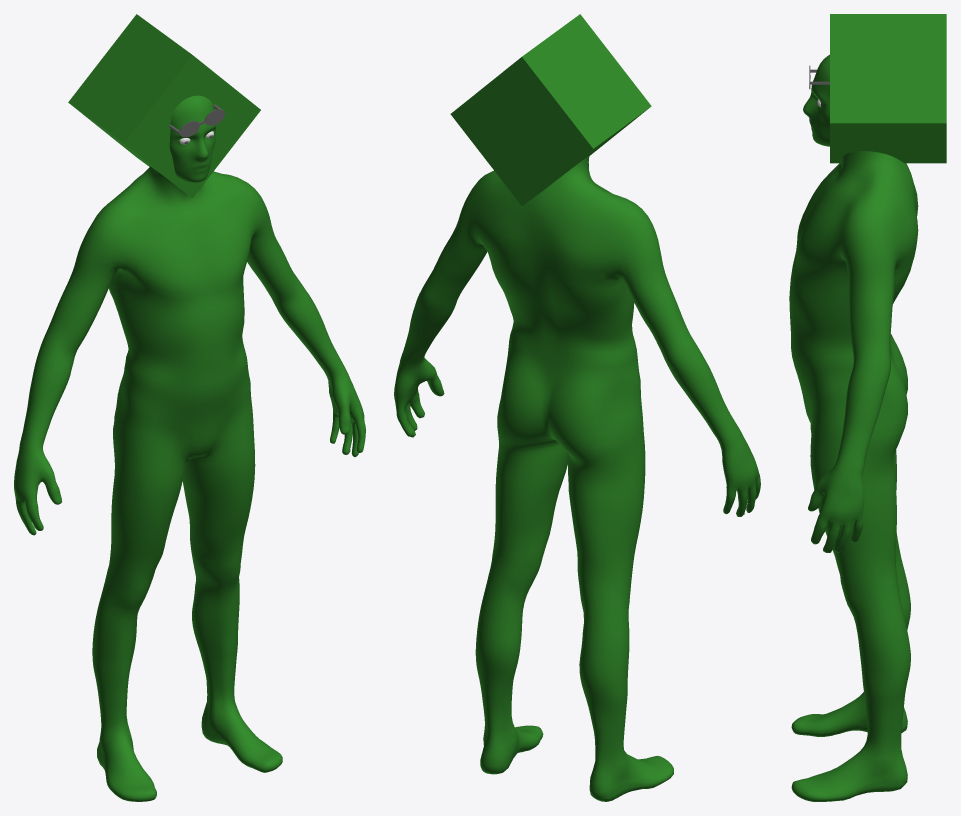
File: Tristan.fbx
The picture shows the model from 3 angles, left to right: view 1: azimuth 30°, elevation 25°; view 2: azimuth 150°, elevation 25°; view 3: azimuth 270°, elevation 25°; orthographic projection. The views are drawn at different scales.
Parts seen in each view (by area): view 1: humanBody, pCube1; view 2: humanBody, pCube1; view 3: humanBody, pCube1.
Boxes of the visible parts, x1,y1,x2,y2 form: humanBody: (14,95,365,801); pCube1: (68,14,260,198); humanBody: (394,155,760,801); pCube1: (450,14,651,205); humanBody: (789,54,918,801); pCube1: (830,14,946,163).
Size of the model in its own units: 95.48 by 192 by 36.45.
